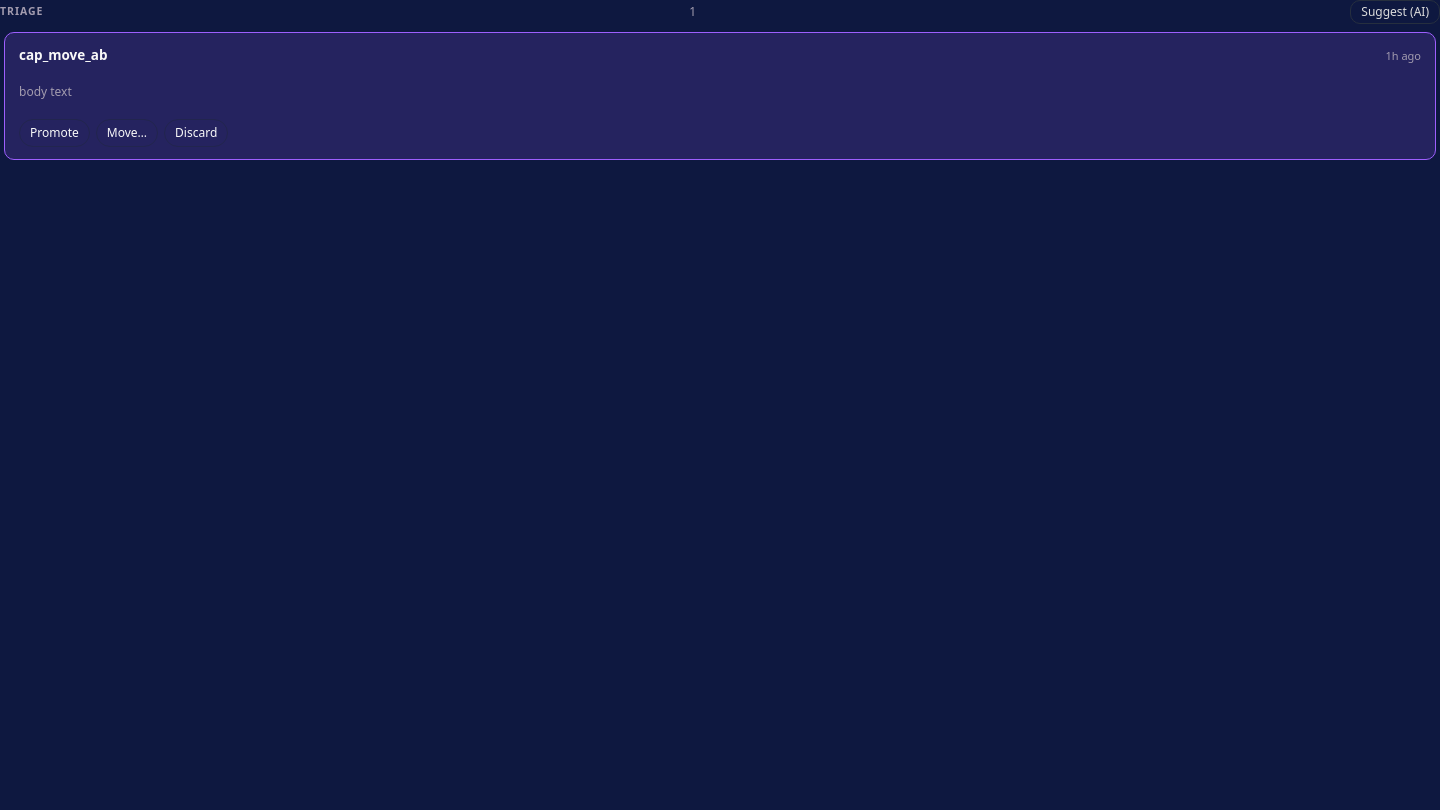
Test: TriageView action flows (Task 4 wiring) › move: m opens the move modal; the preset chip fills the category and a blank rename falls back to the note title
Press m
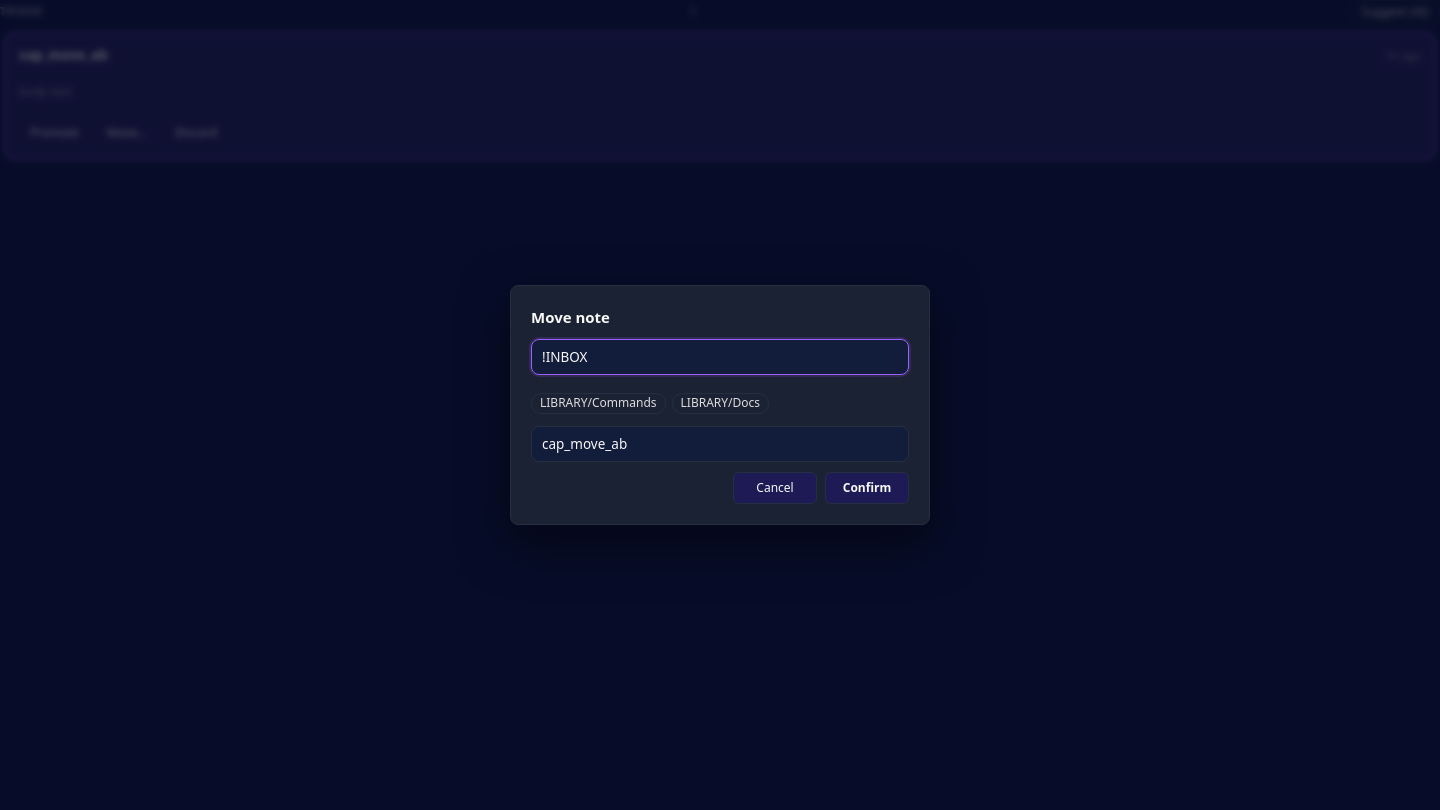
Check: the field named "Category" holds "!INBOX", box [531,339,909,375]
Click the button "LIBRARY/Docs".
click(720, 403)  # box [672,393,769,414]
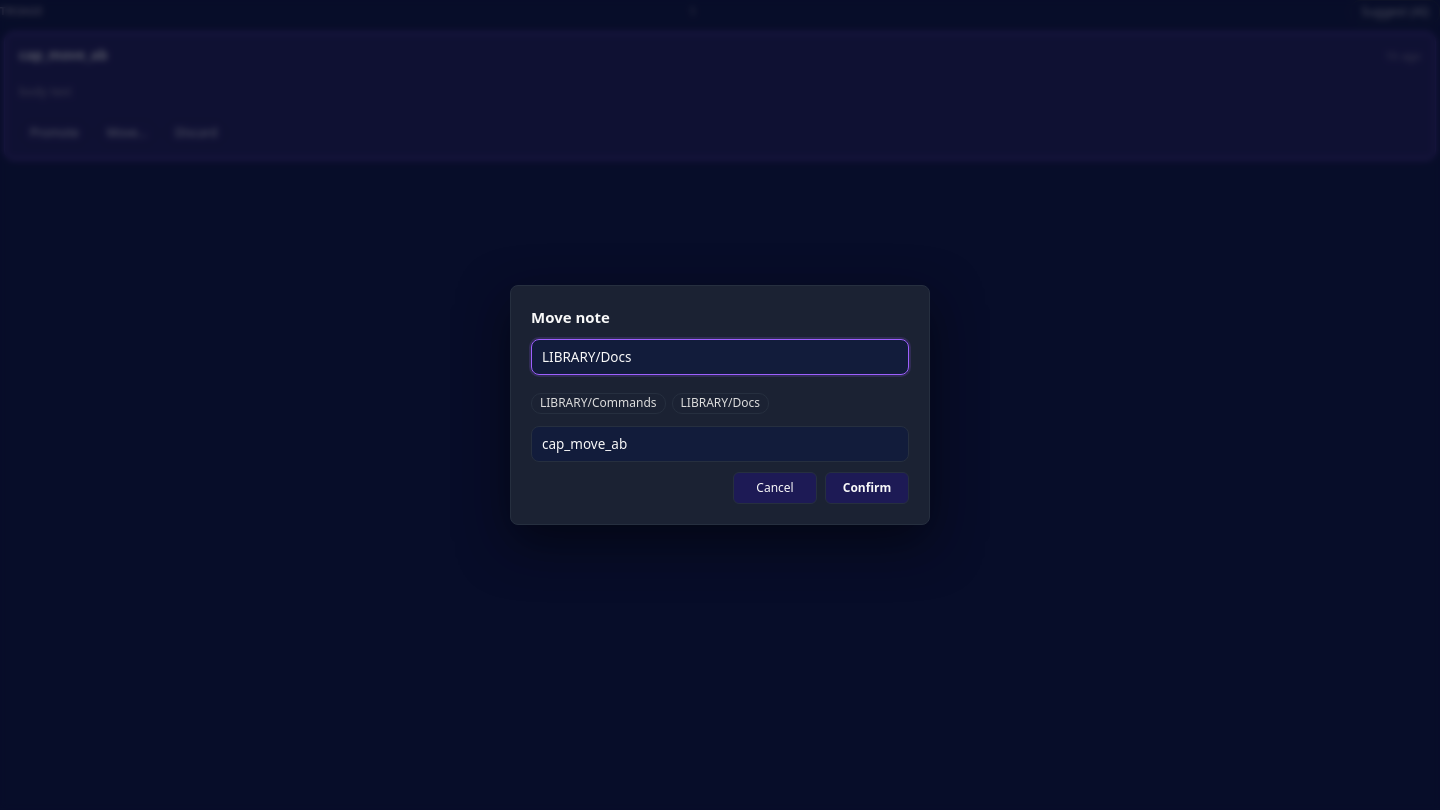
Check: the field named "Category" holds "LIBRARY/Docs", box [531,339,909,375]
Clear the field named "Title" at (720, 444), box [531,426,909,462]
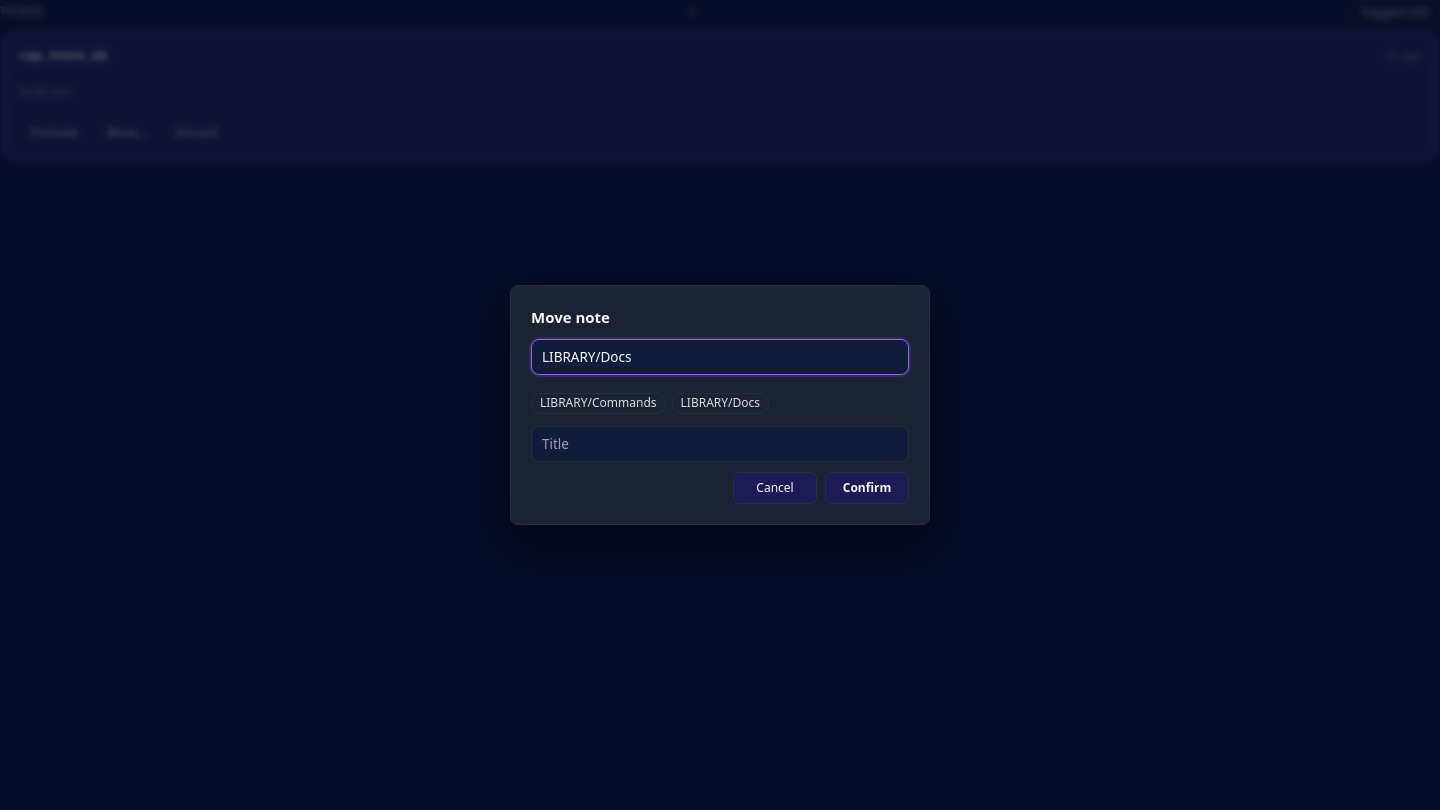
Click the button "Confirm".
click(867, 488)  # box [825,472,909,504]
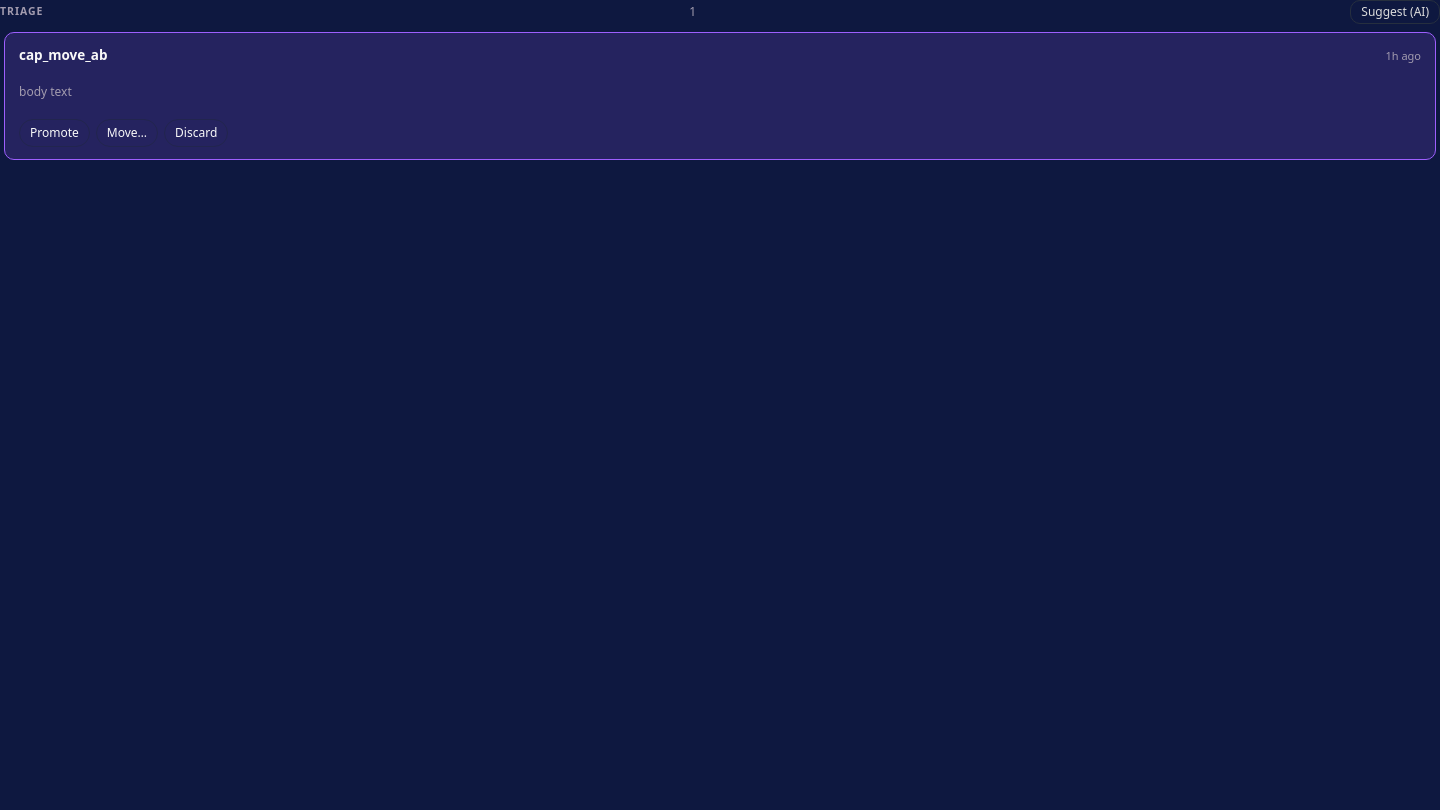
Check: the dialog is gone
